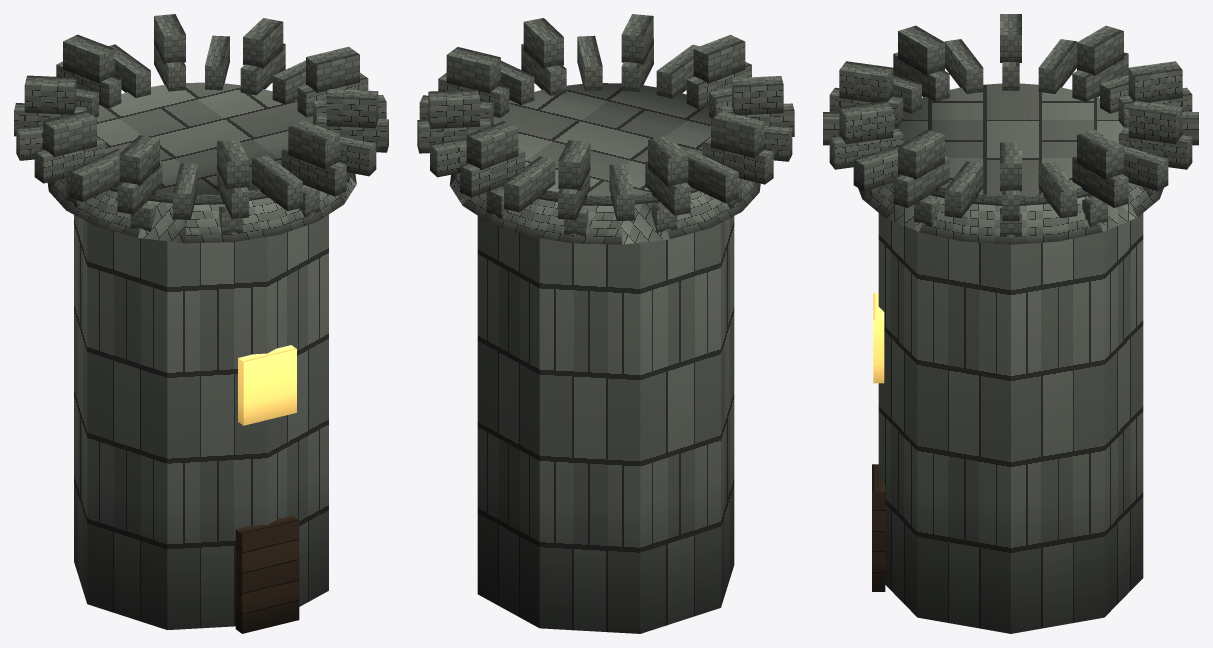
Rendered from tower.glb.
3 views of the same model, side by side, from view 1: azimuth 30°, elevation 25°; view 2: azimuth 150°, elevation 25°; view 3: azimuth 270°, elevation 25° (orthographic).
Visible parts, largest first — view 1: tower; view 2: tower; view 3: tower.
Boxes of the visible parts, x1,y1,x2,y2 form: tower: [14, 14, 388, 633]; tower: [417, 14, 794, 633]; tower: [823, 14, 1198, 633].
Size of the model in its own units: 1.71 by 2.45 by 1.71.
Materials: 1 (1 with a texture image).
